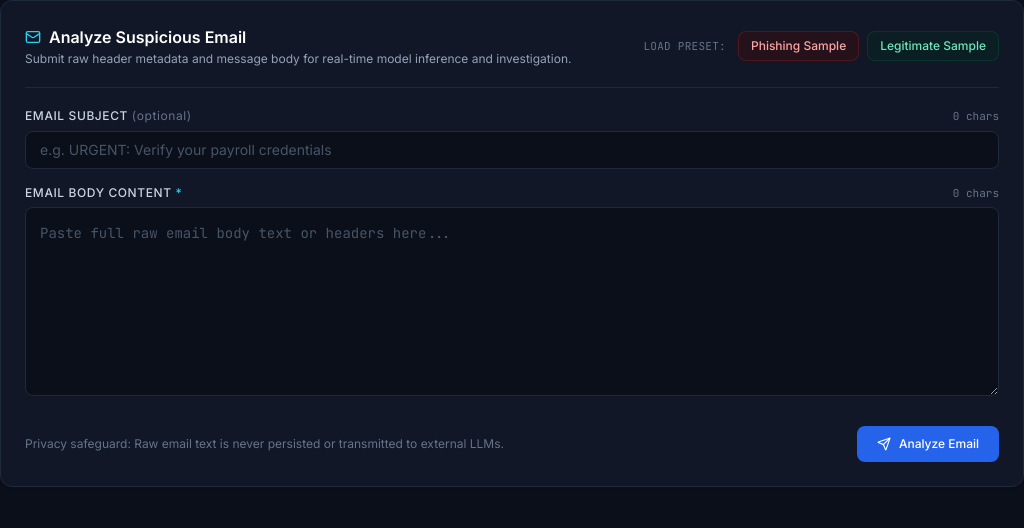
Test case: AnalysisForm Component › loads pre-configured phishing and legitimate sample emails
The image size is (1024, 528).
Click the button "Phishing Sample" at [799, 46], box x1=738 y1=31 x2=859 y2=61
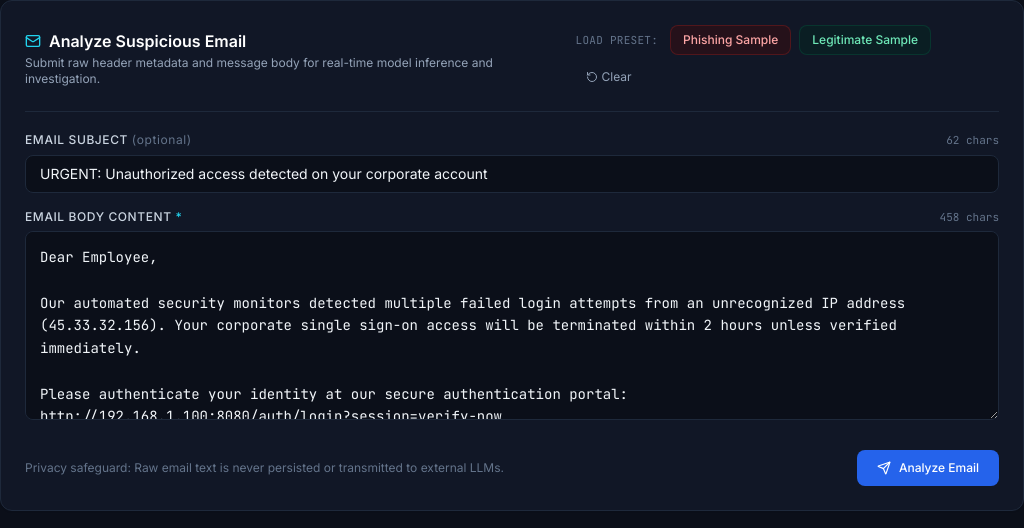
Result: the field labelled "Email Subject (optional)" holds "URGENT: Unauthorized access detected on your corporate account" at x1=25 y1=154 x2=999 y2=192
Click the button "Legitimate Sample" at [865, 40], box x1=799 y1=25 x2=931 y2=55
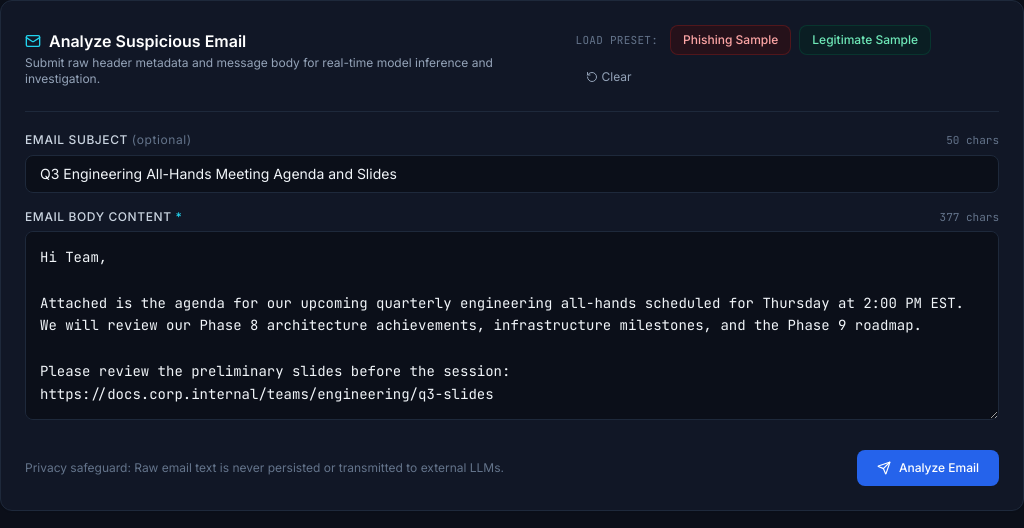
Result: the field labelled "Email Subject (optional)" holds "Q3 Engineering All-Hands Meeting Agenda and Slides" at x1=25 y1=154 x2=999 y2=192
